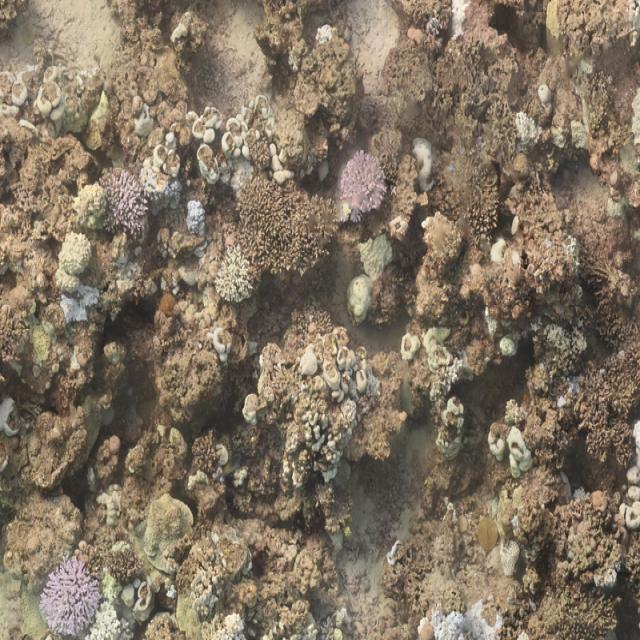Bleached Coral: (208, 245, 263, 309), (51, 233, 93, 275), (72, 175, 108, 223), (89, 600, 127, 640)
Healthy Coral: (341, 143, 400, 232), (37, 556, 90, 633), (122, 167, 162, 249)
